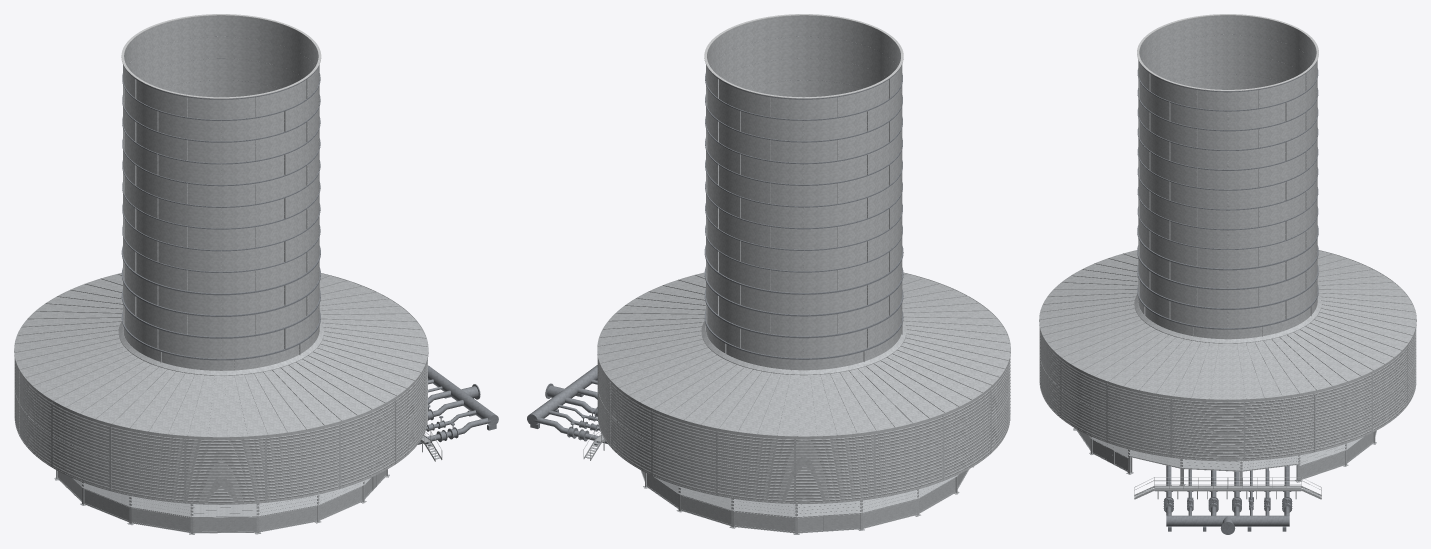
Rendered from egf-combustion-chamber.glb.
3 views of the same model, side by side, from view 1: azimuth 30°, elevation 25°; view 2: azimuth 150°, elevation 25°; view 3: azimuth 270°, elevation 25° (orthographic). The views are drawn at different scales.
Visible parts, largest first — view 1: NoiseShroudRoof, ShellCourses13to16, NoiseShroudWall, ShellCourses9to12, ShellCourses5to8, WindFence, RingStiffeners, GasHeaderandStageLines, ShellCourses1to4, RainCap, ShroudFrames; view 2: NoiseShroudRoof, ShellCourses13to16, NoiseShroudWall, ShellCourses9to12, ShellCourses5to8, WindFence, RingStiffeners, GasHeaderandStageLines, ShellCourses1to4, RainCap, ShroudFrames; view 3: NoiseShroudRoof, ShellCourses13to16, NoiseShroudWall, ShellCourses9to12, ShellCourses5to8, RingStiffeners, WindFence, GasHeaderandStageLines, Walkway, ShellCourses1to4, RainCap, ShroudFrames.
Boxes of the visible parts, x1,y1,x2,y2 form: NoiseShroudRoof: (14,273,428,438); ShellCourses13to16: (123,15,319,184); NoiseShroudWall: (14,359,427,504); ShellCourses9to12: (123,150,319,271); ShellCourses5to8: (123,237,319,358); WindFence: (54,469,389,534); RingStiffeners: (121,36,320,360); GasHeaderandStageLines: (418,365,498,445); ShellCourses1to4: (122,324,319,370); RainCap: (121,14,321,98); ShroudFrames: (19,370,424,503); NoiseShroudRoof: (597,272,1010,438); ShellCourses13to16: (706,15,902,184); NoiseShroudWall: (597,358,1010,503); ShellCourses9to12: (706,150,902,271); ShellCourses5to8: (706,237,902,357); WindFence: (640,466,973,534); RingStiffeners: (704,36,903,359); GasHeaderandStageLines: (527,365,607,445); ShellCourses1to4: (706,324,902,370); RainCap: (704,14,903,98); ShroudFrames: (609,359,1010,503); NoiseShroudRoof: (1039,250,1416,401); ShellCourses13to16: (1138,15,1317,169); NoiseShroudWall: (1039,328,1416,461); ShellCourses9to12: (1138,138,1317,248); ShellCourses5to8: (1138,217,1317,327); RingStiffeners: (1137,34,1318,329); WindFence: (1073,428,1376,485); GasHeaderandStageLines: (1163,465,1292,534); Walkway: (1134,477,1321,499); ShellCourses1to4: (1138,298,1317,339); RainCap: (1137,14,1318,91); ShroudFrames: (1040,332,1407,460).
Size of the model in its own units: 51.05 by 45.78 by 42.15.
5 materials, 5 textured.
